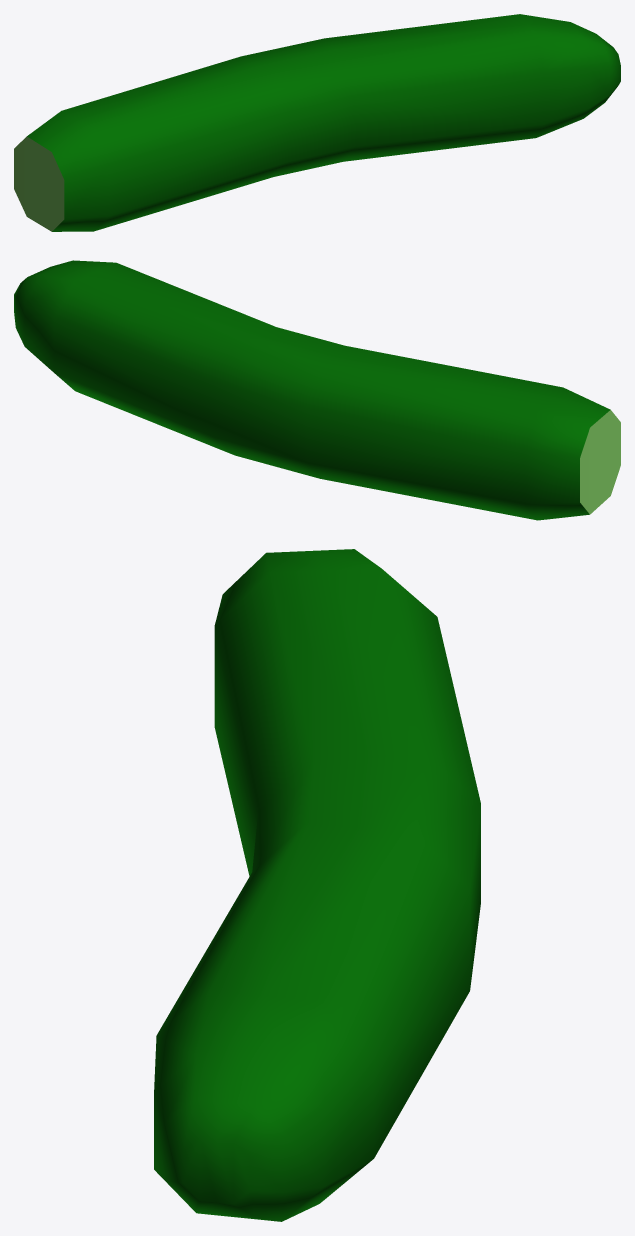
The model's file is mesh_Cucumber_Stage02.fbx.
The picture shows the model from 3 angles, top to bottom: view 1: azimuth 30°, elevation 25°; view 2: azimuth 150°, elevation 25°; view 3: azimuth 270°, elevation 25°; orthographic projection. The views are drawn at different scales.
Parts seen in each view (by area): view 1: mesh_Cucumber_Stage02; view 2: mesh_Cucumber_Stage02; view 3: mesh_Cucumber_Stage02.
Boxes of the visible parts, box(x1,y1,x2,y2) form: mesh_Cucumber_Stage02: box(14, 14, 620, 231); mesh_Cucumber_Stage02: box(14, 260, 620, 520); mesh_Cucumber_Stage02: box(154, 549, 480, 1221).
Bounding box in the file's own units: 0.2118 × 0.0367 × 0.0535.
